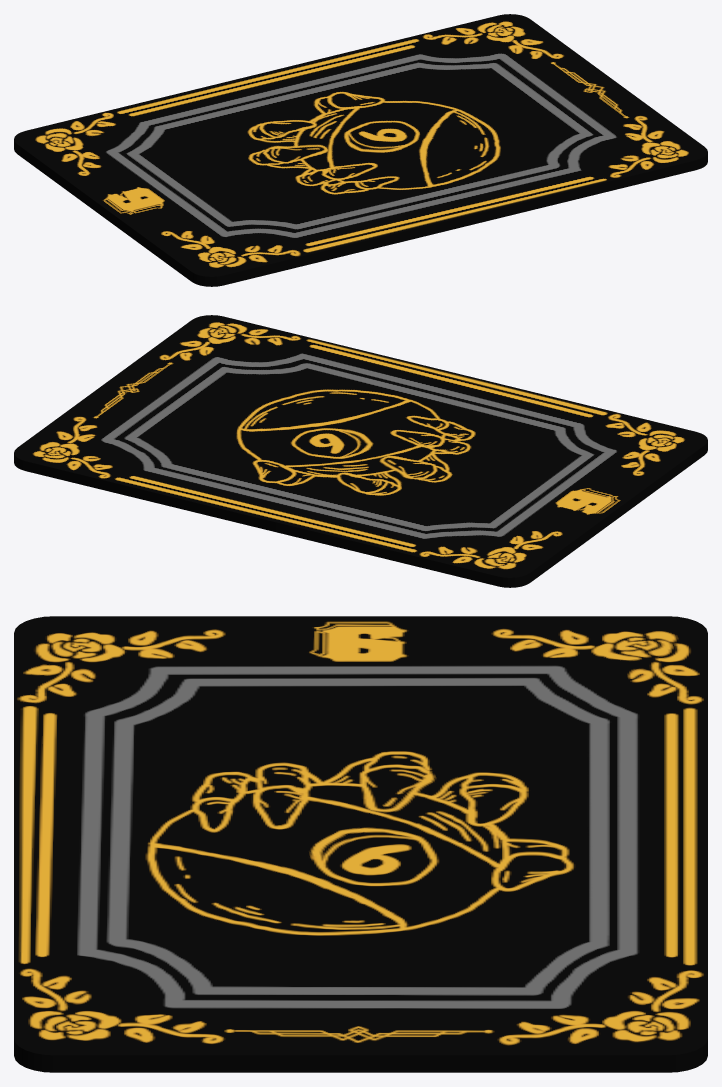
File: Card1blend.fbx
3 views of the same model, one above another, from view 1: azimuth 30°, elevation 25°; view 2: azimuth 150°, elevation 25°; view 3: azimuth 270°, elevation 25° (orthographic). The views are drawn at different scales.
Parts seen in each view (by area): view 1: Cube; view 2: Cube; view 3: Cube.
Boxes of the visible parts, left/top/right/bottom form: Cube: left=14, top=14, right=707, bottom=286; Cube: left=14, top=315, right=707, bottom=587; Cube: left=14, top=616, right=707, bottom=1072.
Size of the model in its own units: 54.2 by 1 by 36.2.
